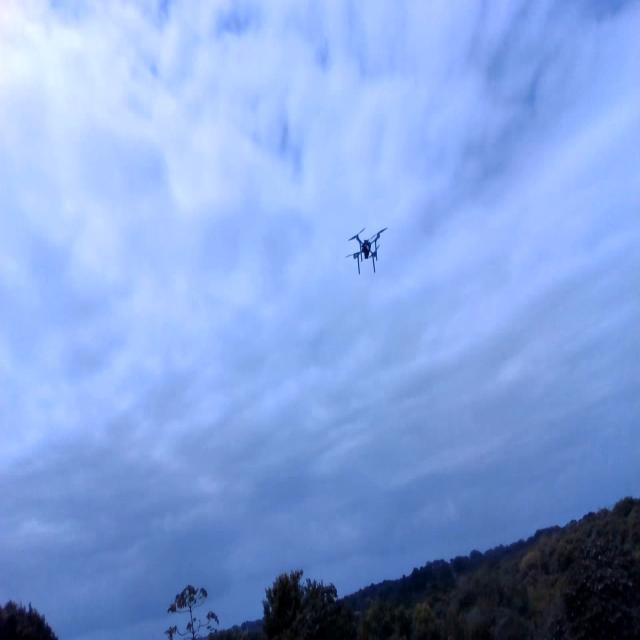-uav-: (341, 214, 392, 288)
